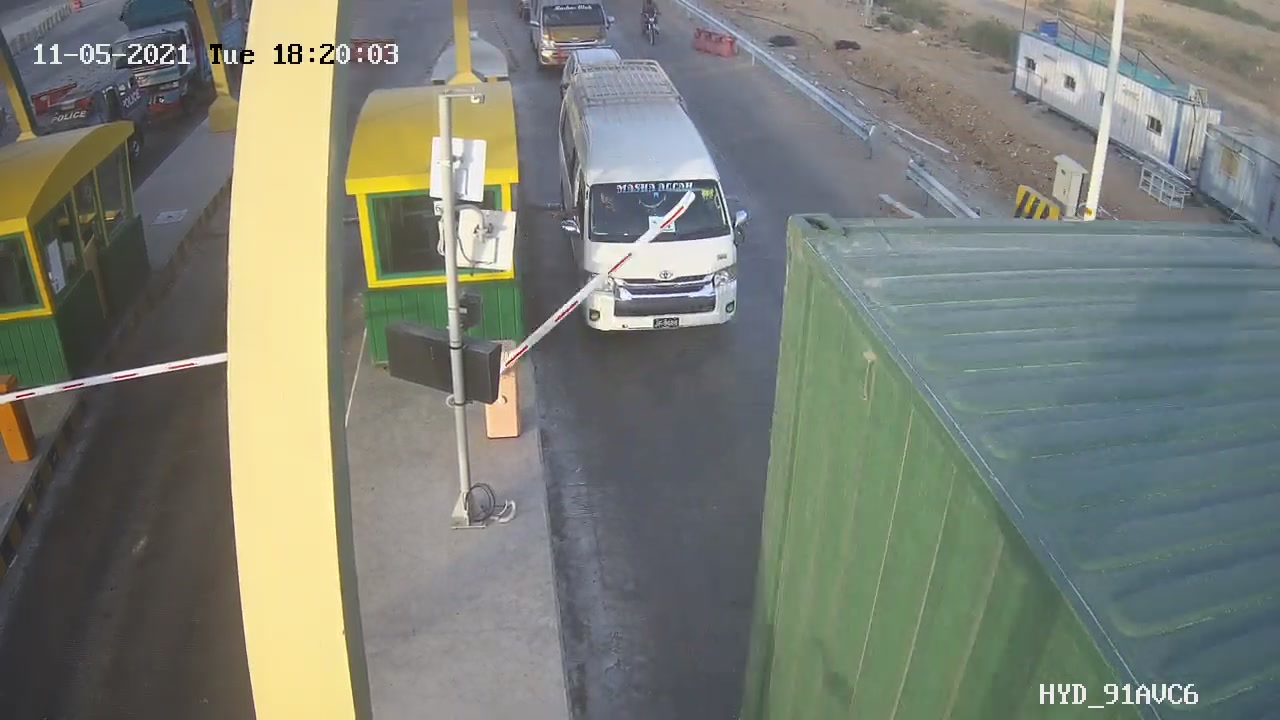F2: (555, 62, 758, 339)
